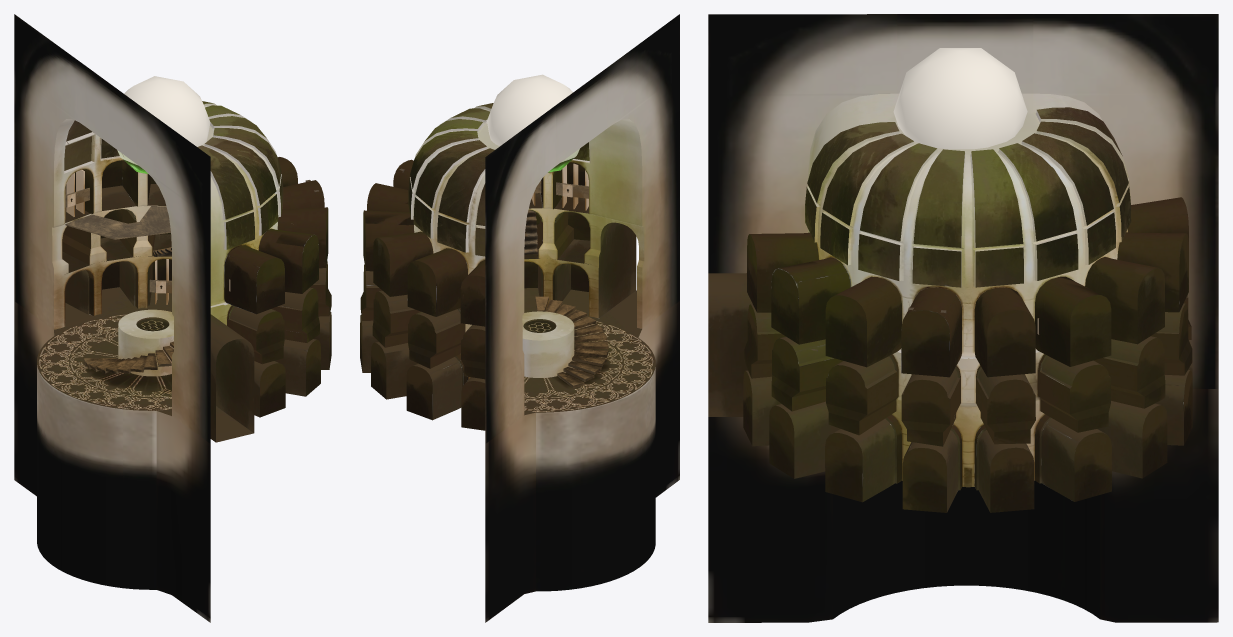
Rendered from hub.glb.
3 renders of one model, left to right at view 1: azimuth 30°, elevation 25°; view 2: azimuth 150°, elevation 25°; view 3: azimuth 270°, elevation 25°, orthographic. The views are drawn at different scales.
Visible parts, largest first — view 1: Cube_029, Icosphere, Plane_007, Circle_002, Cube_066, Cube_068; view 2: Cube_029, Icosphere, Circle_002, Cube_065, Cube_077; view 3: Cube_029, Icosphere.
Part boxes in pixels (left/top/right/bottom): Cube_029: left=14, top=14, right=331, bottom=622; Icosphere: left=117, top=76, right=210, bottom=174; Plane_007: left=65, top=206, right=170, bottom=239; Circle_002: left=84, top=341, right=173, bottom=374; Cube_066: left=65, top=169, right=89, bottom=219; Cube_068: left=149, top=259, right=171, bottom=304; Cube_029: left=360, top=14, right=679, bottom=622; Icosphere: left=487, top=74, right=579, bottom=172; Circle_002: left=535, top=296, right=608, bottom=388; Cube_065: left=556, top=163, right=588, bottom=210; Cube_077: left=524, top=210, right=537, bottom=254; Cube_029: left=708, top=14, right=1218, bottom=622; Icosphere: left=893, top=48, right=1027, bottom=149.
Size of the model in its own units: 2.46 by 4.27 by 3.25.
Materials: 7 (7 with a texture image).
